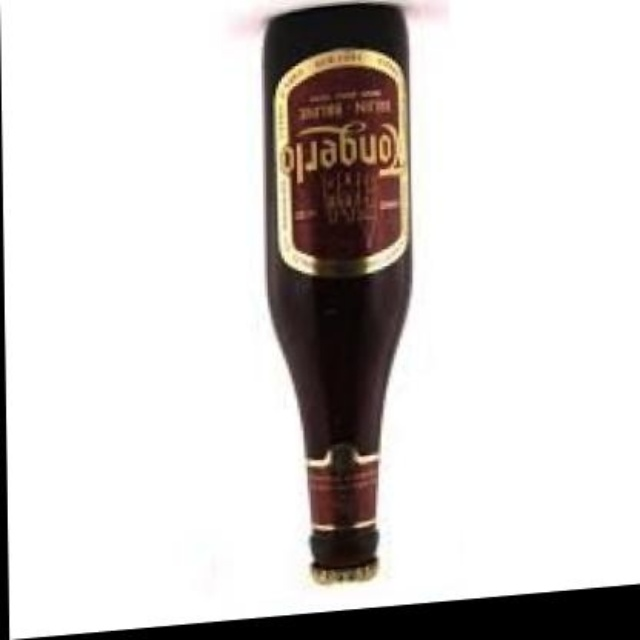trash: (263, 5, 411, 580)
